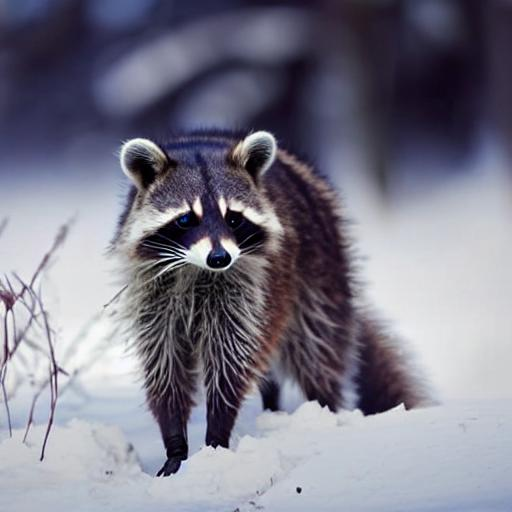raccoon: (86, 106, 421, 392)
